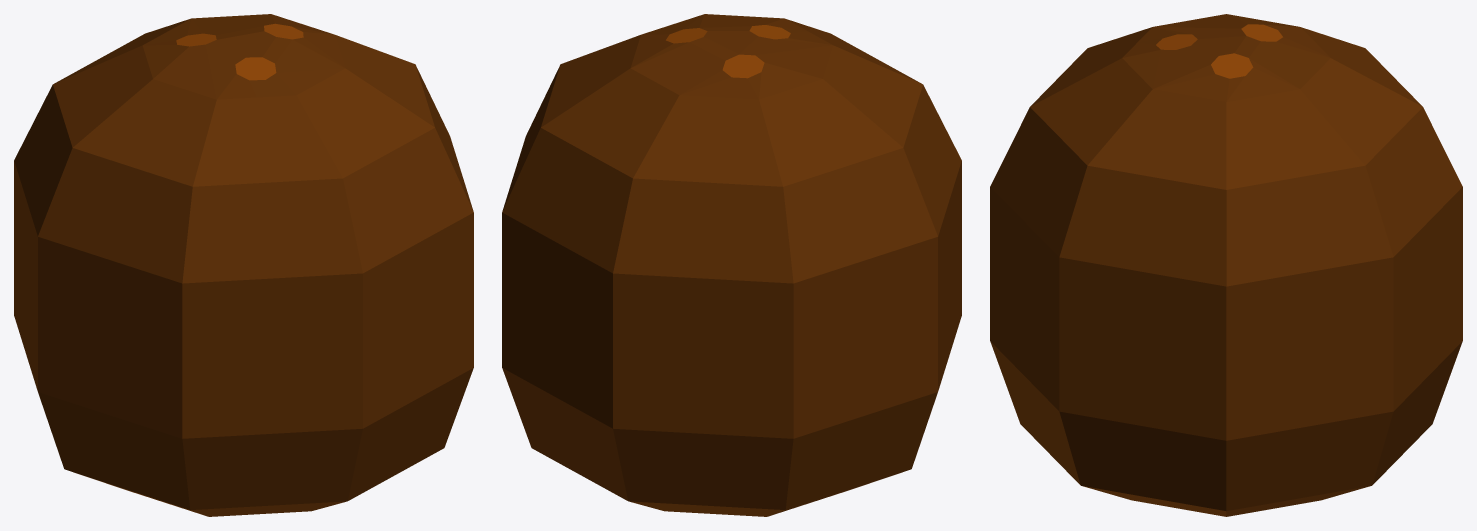
The model's file is coconut01.obj.
3 views of the same model, side by side, from view 1: azimuth 30°, elevation 25°; view 2: azimuth 150°, elevation 25°; view 3: azimuth 270°, elevation 25° (orthographic).
Parts seen in each view (by area): view 1: Cylinder; view 2: Cylinder; view 3: Cylinder.
Part boxes in pixels (x1,y1,x2,y2): Cylinder: [14, 14, 473, 516]; Cylinder: [502, 14, 961, 516]; Cylinder: [990, 14, 1462, 516].
Size of the model in its own units: 0.1384 by 0.1353 by 0.1384.
Materials: 1 (1 with a texture image).
